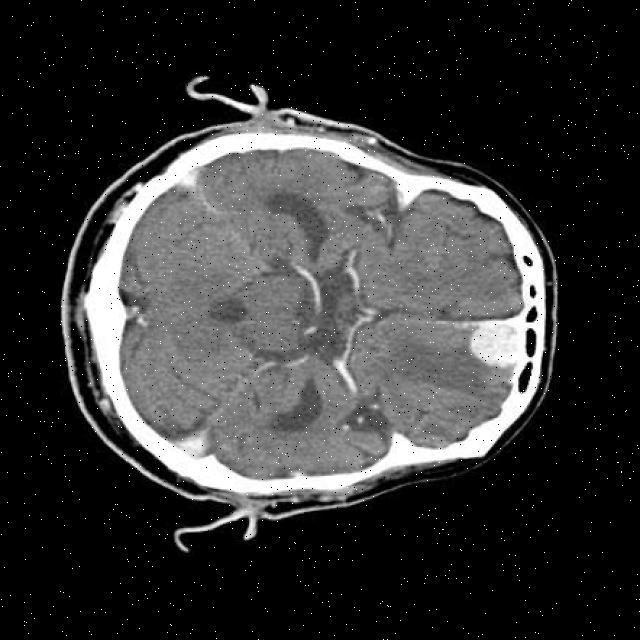Meningioma: (470, 323, 518, 367)
